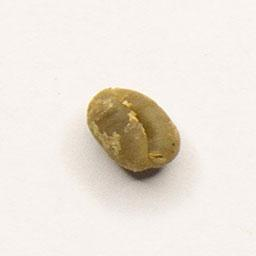peaberry: (82, 84, 184, 178)
